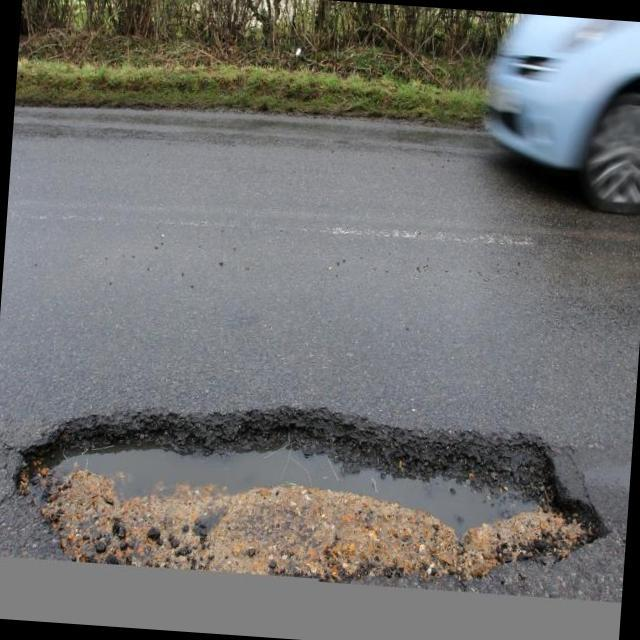Pothole: (13, 406, 597, 588)
